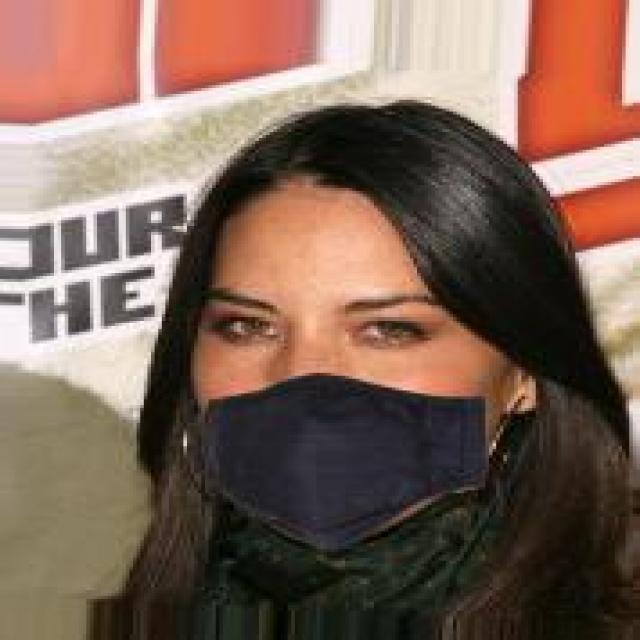mask: (180, 74, 579, 532)
